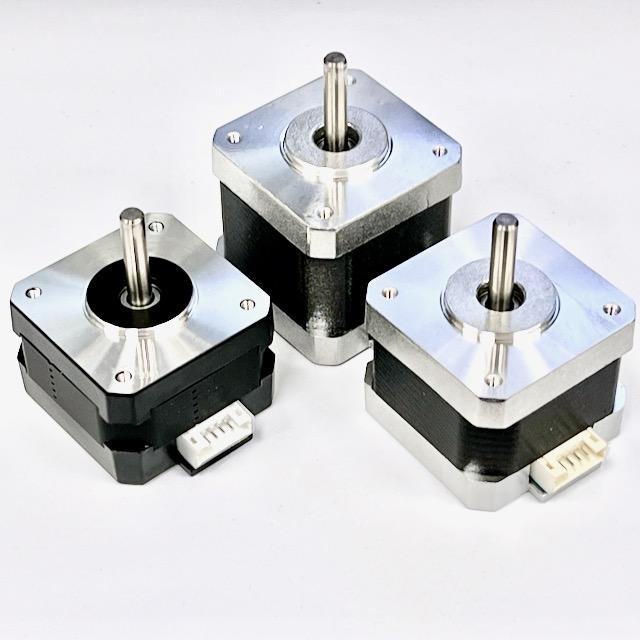motor: (363, 209, 638, 513), (211, 50, 459, 364), (7, 199, 279, 483)
